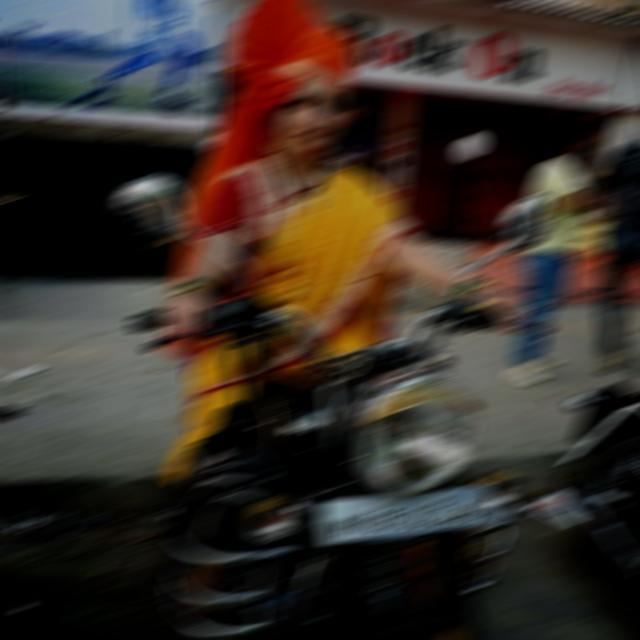Without Helmet: (228, 16, 376, 167)
